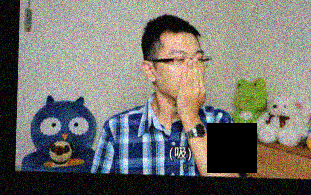with_mask: (155, 46, 207, 103)
